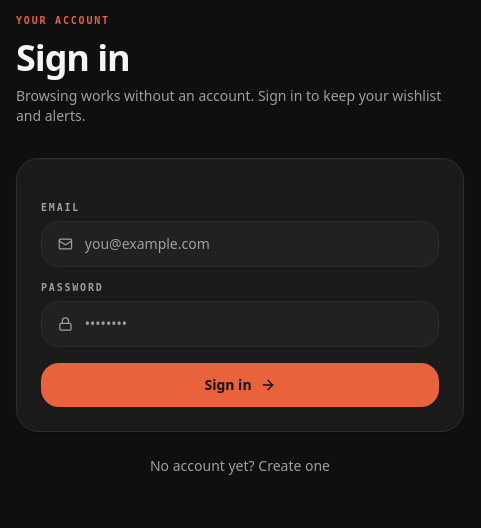
Test: SignInPage › asks for an email before submitting an empty form
Click the button "Sign in": x=240, y=385 [41,363,439,407]
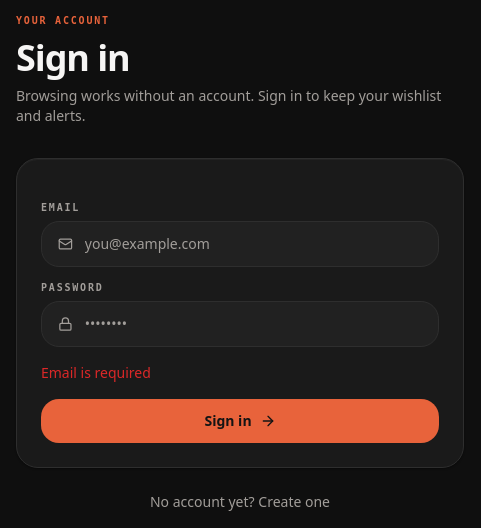
Expected: the message reads "Email is required", [41,363,151,382]
